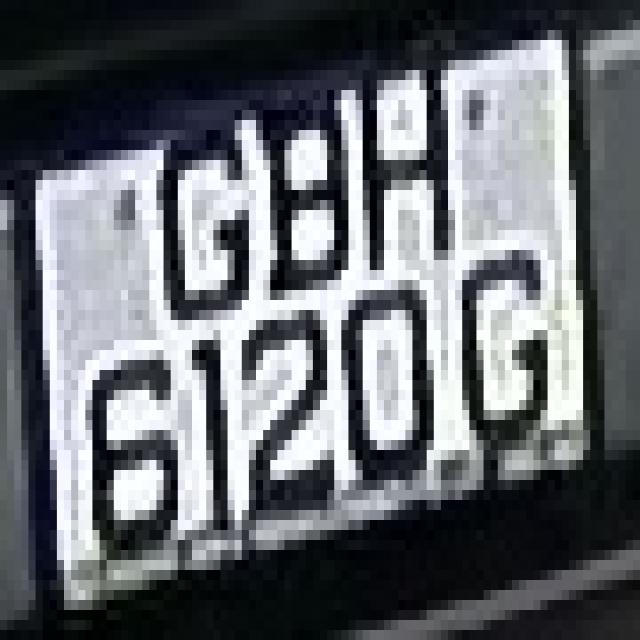0: (320, 250, 448, 500)
1: (164, 320, 242, 510)
2: (235, 280, 341, 540)
6: (71, 320, 164, 560)
B: (228, 80, 356, 300)
G: (434, 220, 562, 480), (135, 90, 256, 330)
H: (341, 40, 455, 260)
